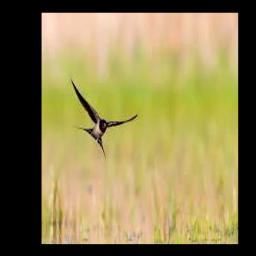Swallow: (71, 79, 138, 156)
